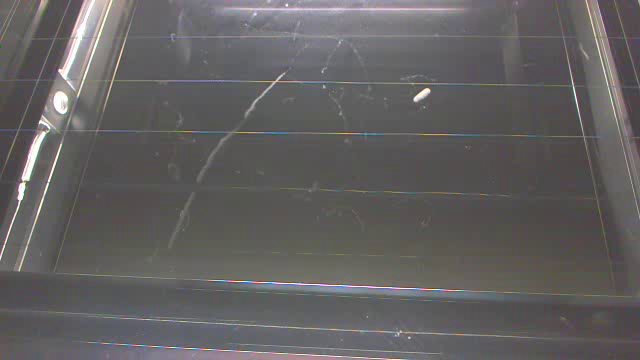alpha: (410, 86, 433, 103)
